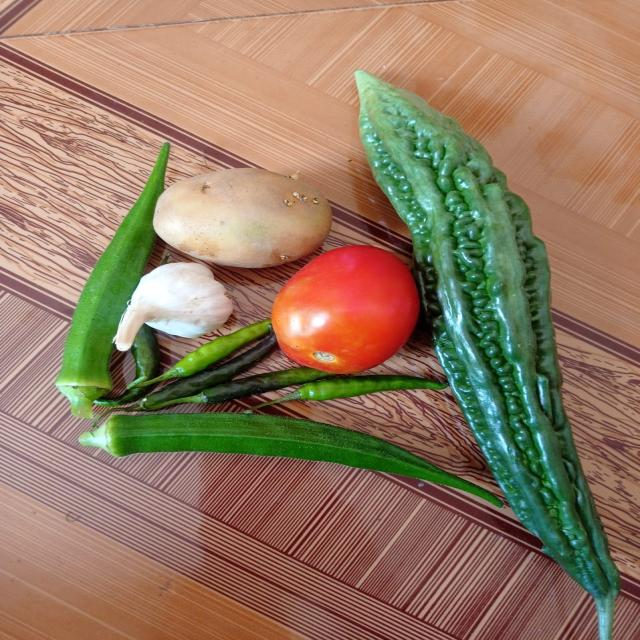Organik: (387, 95, 553, 572), (92, 416, 488, 512), (259, 244, 425, 369), (146, 174, 340, 262), (153, 354, 371, 412), (130, 259, 238, 342)
